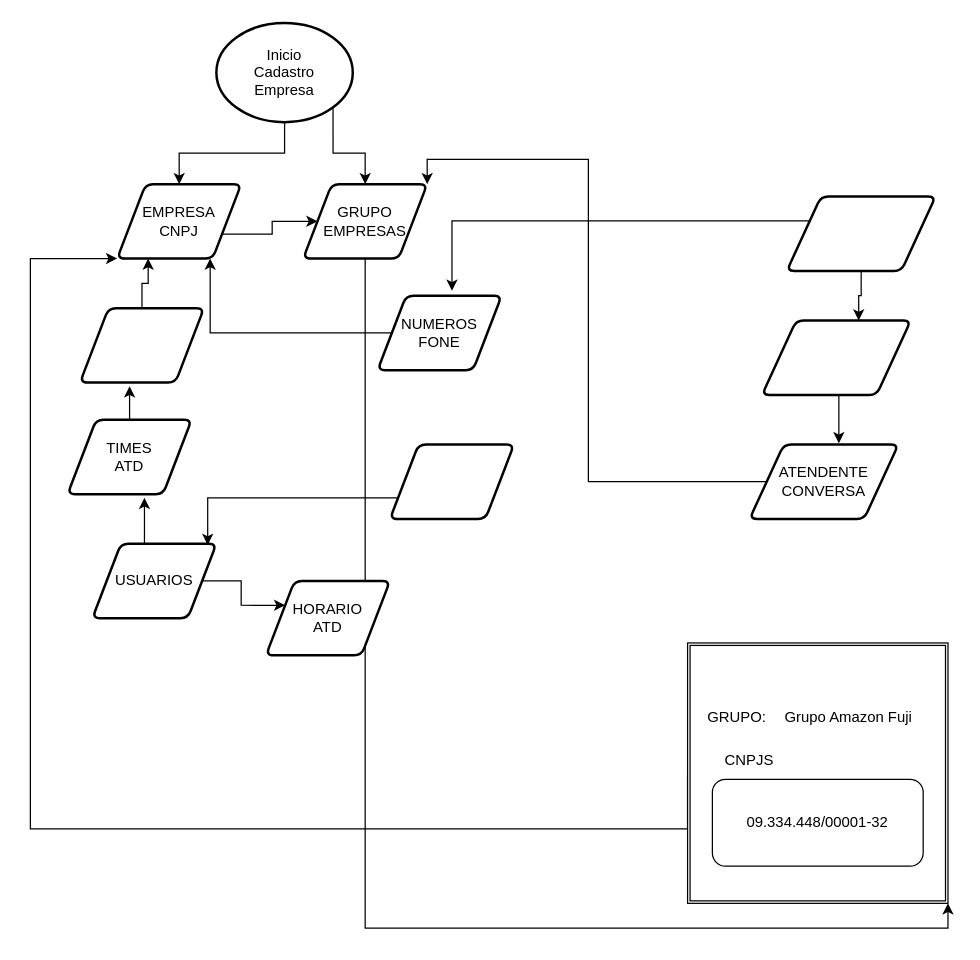
Some shapes in this 980 by 960 pixel diagram are drawn without their labels. The shapes that lost their labels are listed below. From the top down, each one's box as (x1, y1, x2, y2) in pixels, then its label:
(785, 195, 936, 272): CONVERSAS CHATS
(78, 306, 205, 383): DPTOS
(760, 319, 911, 396): MENSAGENS CONVERSAS
(388, 443, 515, 520): FUNCOES
